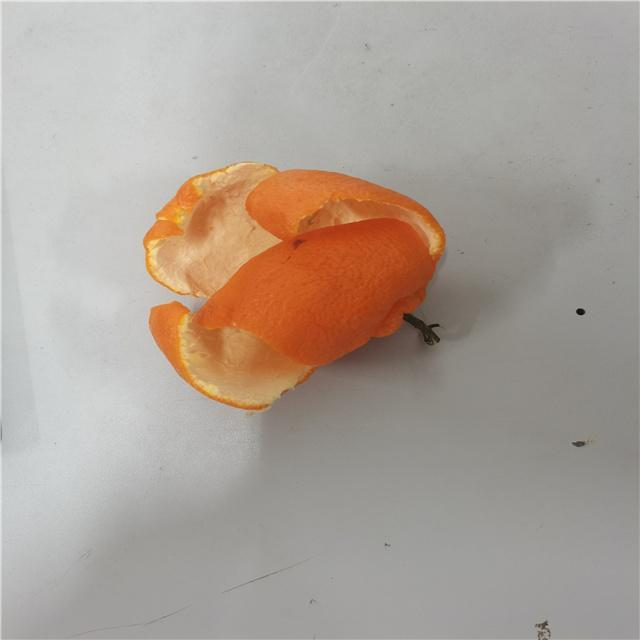orange-peel: (137, 158, 453, 413)
